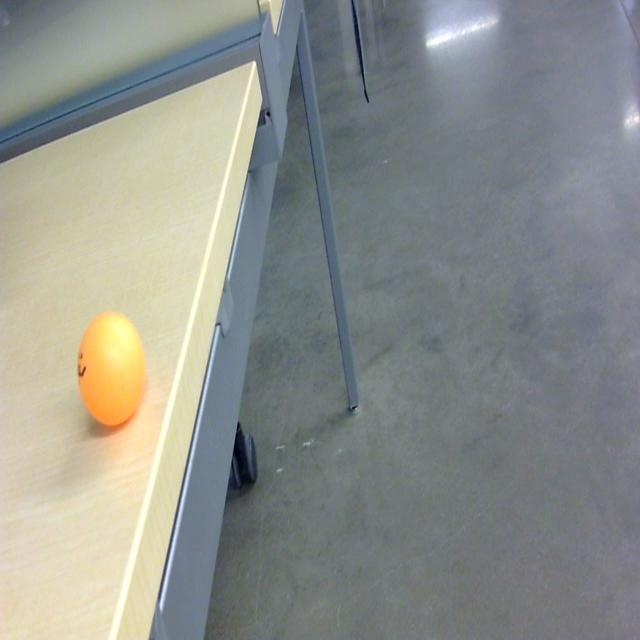ball: (76, 312, 148, 433)
